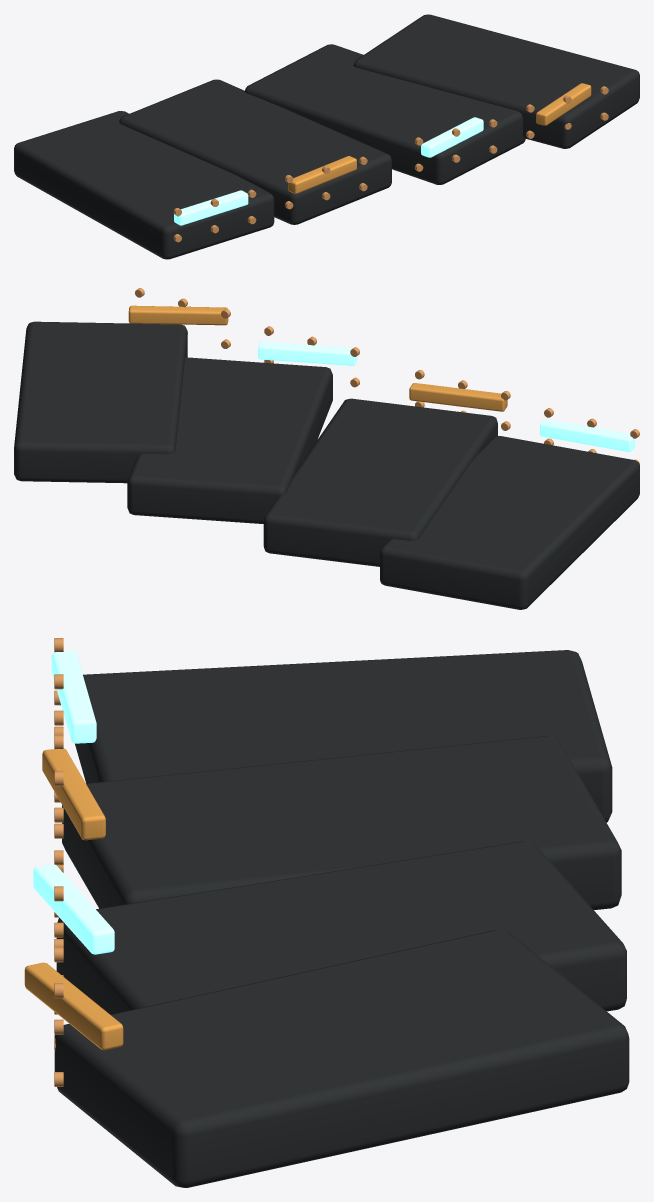
Rendered from hp_pickup_memory_chip_cluster.glb.
3 views of the same model, one above another, from view 1: azimuth 30°, elevation 25°; view 2: azimuth 150°, elevation 25°; view 3: azimuth 270°, elevation 25° (orthographic). The views are drawn at different scales.
Visible parts, largest first — view 1: pickup_memory_chip_cluster_chip_1, pickup_memory_chip_cluster_chip_4, pickup_memory_chip_cluster_chip_2, pickup_memory_chip_cluster_chip_3, pickup_memory_chip_cluster_chip_trace_1, pickup_memory_chip_cluster_chip_trace_2, pickup_memory_chip_cluster_chip_trace_3, pickup_memory_chip_cluster_chip_trace_4; view 2: pickup_memory_chip_cluster_chip_1, pickup_memory_chip_cluster_chip_2, pickup_memory_chip_cluster_chip_4, pickup_memory_chip_cluster_chip_3, pickup_memory_chip_cluster_chip_trace_2, pickup_memory_chip_cluster_chip_trace_3, pickup_memory_chip_cluster_chip_trace_4, pickup_memory_chip_cluster_chip_trace_1; view 3: pickup_memory_chip_cluster_chip_4, pickup_memory_chip_cluster_chip_2, pickup_memory_chip_cluster_chip_3, pickup_memory_chip_cluster_chip_1, pickup_memory_chip_cluster_chip_trace_4, pickup_memory_chip_cluster_chip_trace_3, pickup_memory_chip_cluster_chip_trace_2, pickup_memory_chip_cluster_chip_trace_1.
Part boxes in pixels (x1,y1,x2,y2): pickup_memory_chip_cluster_chip_1: (14,111,274,259); pickup_memory_chip_cluster_chip_4: (353,14,639,148); pickup_memory_chip_cluster_chip_2: (119,79,391,224); pickup_memory_chip_cluster_chip_3: (244,44,525,184); pickup_memory_chip_cluster_chip_trace_1: (174,190,248,225); pickup_memory_chip_cluster_chip_trace_2: (288,156,356,193); pickup_memory_chip_cluster_chip_trace_3: (421,117,483,157); pickup_memory_chip_cluster_chip_trace_4: (536,83,591,125); pickup_memory_chip_cluster_chip_1: (380,436,639,609); pickup_memory_chip_cluster_chip_2: (263,398,497,566); pickup_memory_chip_cluster_chip_4: (14,321,187,483); pickup_memory_chip_cluster_chip_3: (127,357,332,523); pickup_memory_chip_cluster_chip_trace_2: (409,383,507,411); pickup_memory_chip_cluster_chip_trace_3: (258,341,357,365); pickup_memory_chip_cluster_chip_trace_4: (128,305,228,325); pickup_memory_chip_cluster_chip_trace_1: (540,419,635,452); pickup_memory_chip_cluster_chip_4: (54,930,629,1187); pickup_memory_chip_cluster_chip_2: (62,736,621,909); pickup_memory_chip_cluster_chip_3: (56,841,626,1014); pickup_memory_chip_cluster_chip_1: (75,650,612,822); pickup_memory_chip_cluster_chip_trace_4: (24,962,123,1050); pickup_memory_chip_cluster_chip_trace_3: (33,864,114,954); pickup_memory_chip_cluster_chip_trace_2: (42,748,105,840); pickup_memory_chip_cluster_chip_trace_1: (51,651,96,743).
Bounding box in the file's own units: 0.5689 × 0.074 × 0.2821.
